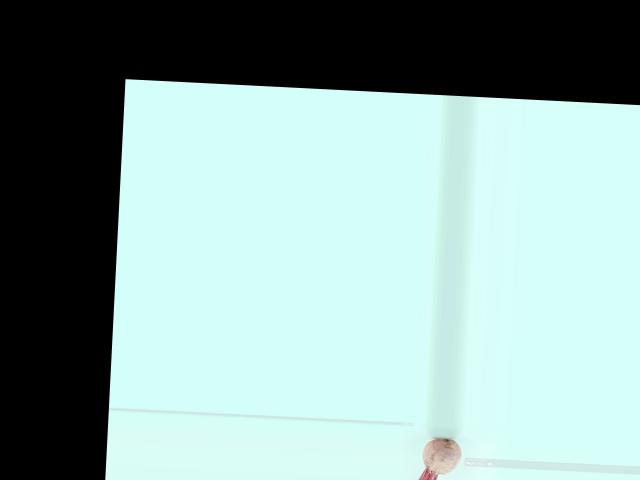beet: (409, 436, 462, 480)
